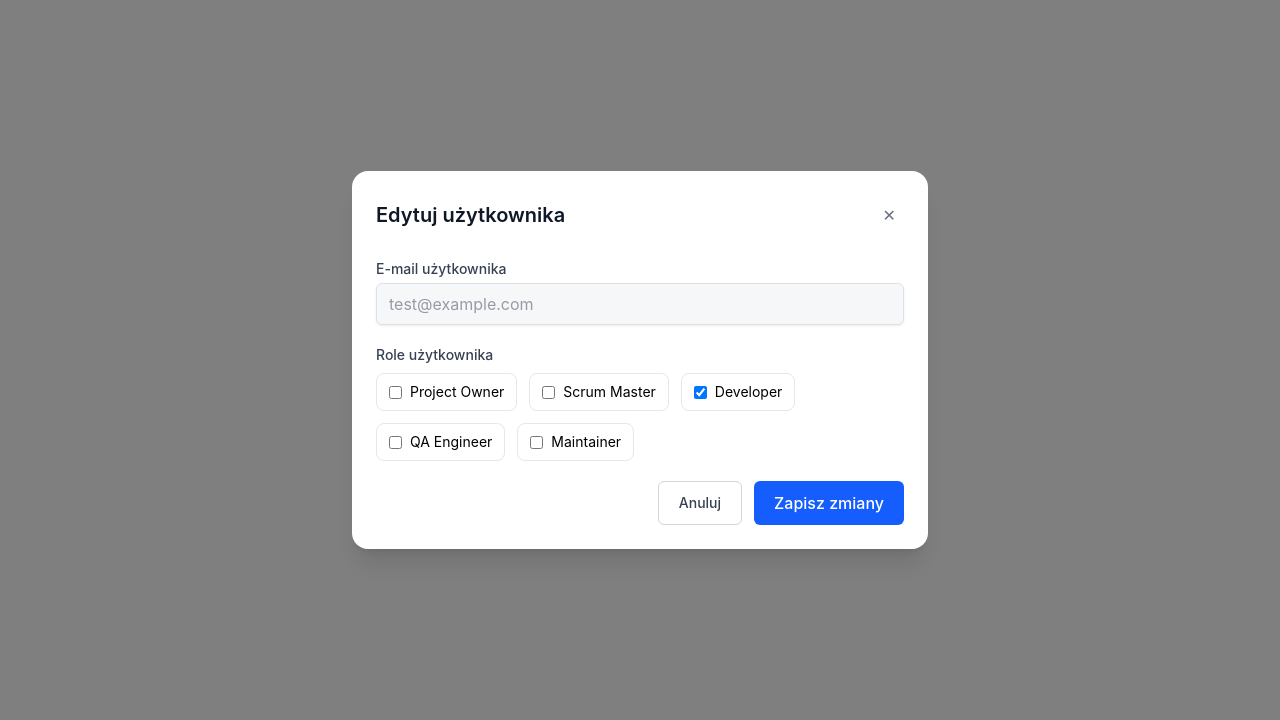
Test case: EditProjectMemberModal › powinien zablokować wysyłkę i pokazać błąd Zoda, gdy odznaczono wszystkie role
Step 1. Click the checkbox labelled "Developer" → [700, 392], box [694,386,707,398]
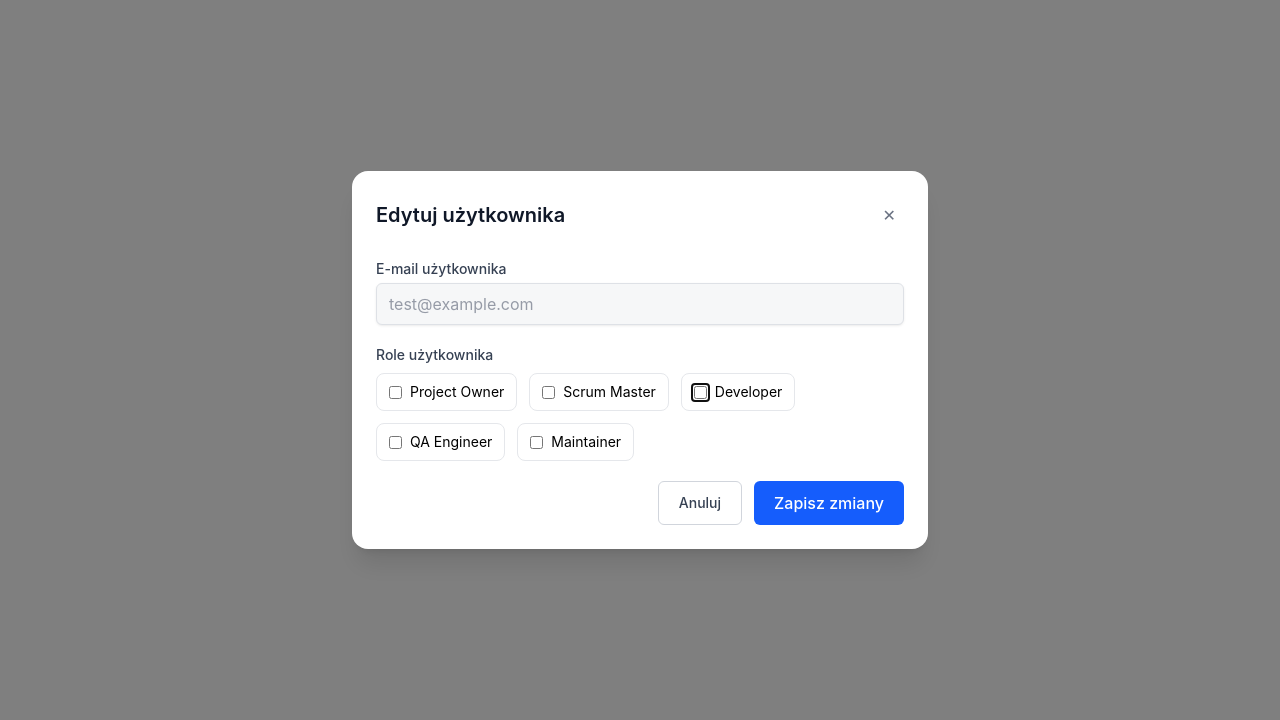
Step 2. Click the button "Zapisz zmiany" → [829, 503], box [754,481,904,525]
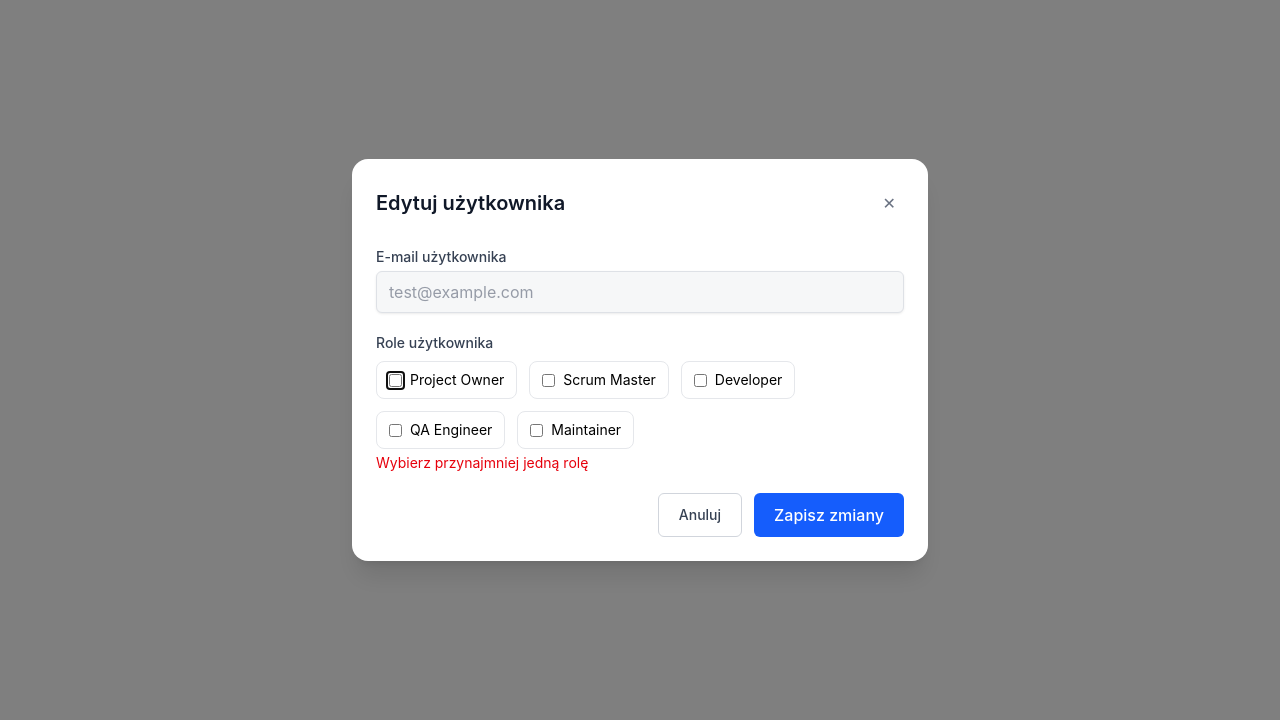
Expected: the text "Wybierz przynajmniej jedną rolę" is shown, [376,454,588,471]
